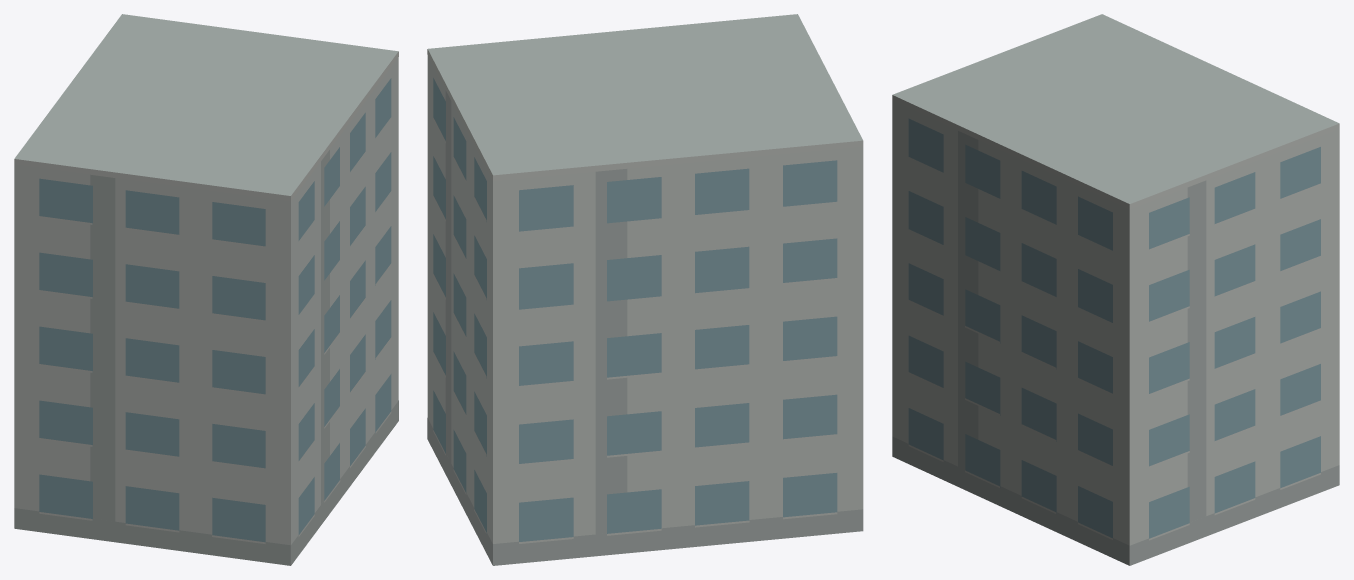
The model's file is survey-upis-32991753.glb.
The picture shows the model from 3 angles, left to right: view 1: azimuth 30°, elevation 25°; view 2: azimuth 150°, elevation 25°; view 3: azimuth 270°, elevation 25°; orthographic projection. The views are drawn at different scales.
Visible parts, largest first — view 1: survey-upis-32991753.tmp; view 2: survey-upis-32991753.tmp; view 3: survey-upis-32991753.tmp.
Boxes of the visible parts, <box> form: survey-upis-32991753.tmp: <box>14,14,398,565</box>; survey-upis-32991753.tmp: <box>427,14,863,565</box>; survey-upis-32991753.tmp: <box>892,14,1339,565</box>.
Bounding box in the file's own units: 17.94 × 15.9 × 17.83.
